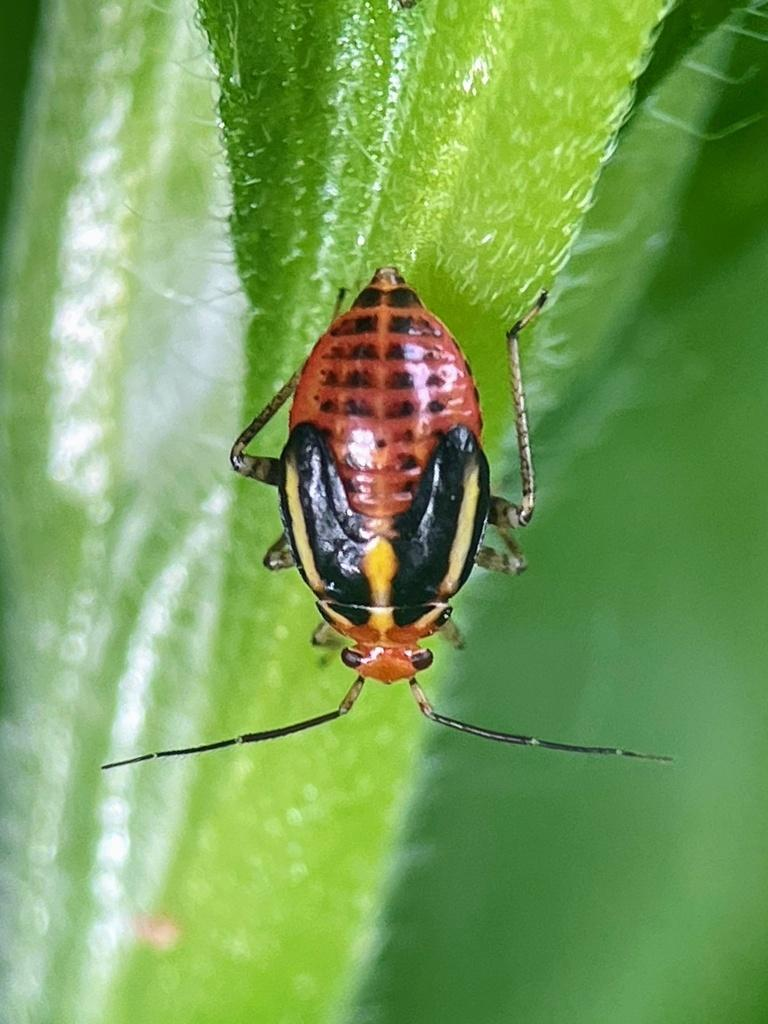plant_bugs: (81, 200, 706, 847)
